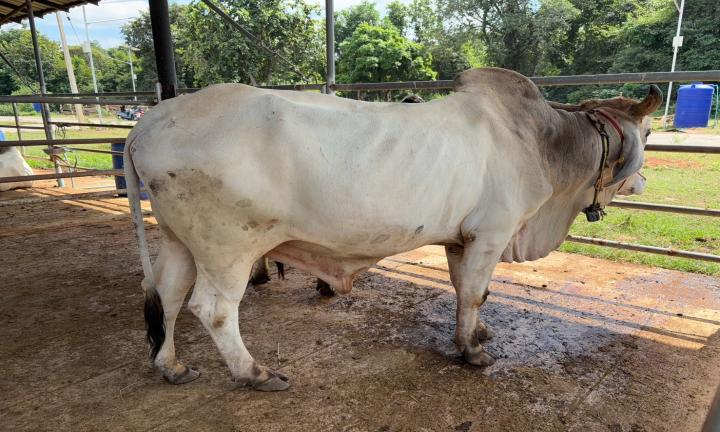Brahman: (124, 67, 662, 391)
